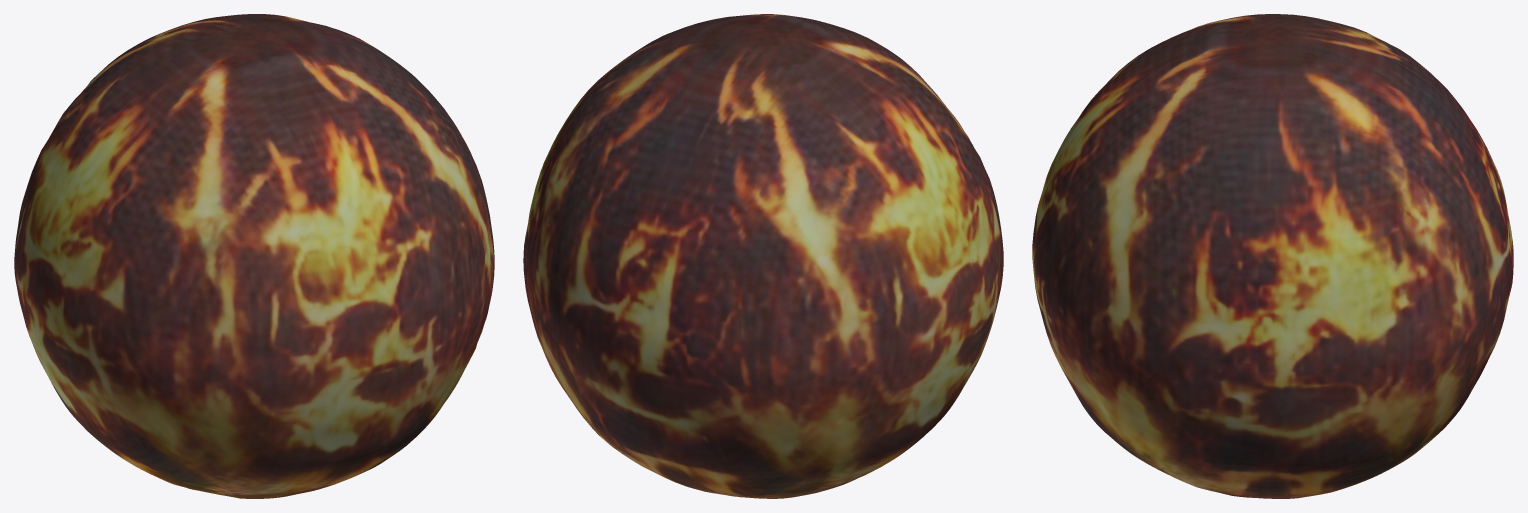
Rendered from 14066ef379b7_fireball__3d_asset_.fbx.
3 views of the same model, side by side, from view 1: azimuth 30°, elevation 25°; view 2: azimuth 150°, elevation 25°; view 3: azimuth 270°, elevation 25° (orthographic).
Visible parts, largest first — view 1: mesh; view 2: mesh; view 3: mesh.
Part boxes in pixels (left/top/right/bottom): mesh: left=14, top=14, right=494, bottom=498; mesh: left=523, top=14, right=1003, bottom=498; mesh: left=1032, top=14, right=1513, bottom=498.
Bounding box in the file's own units: 98.89 × 99.97 × 98.89.
